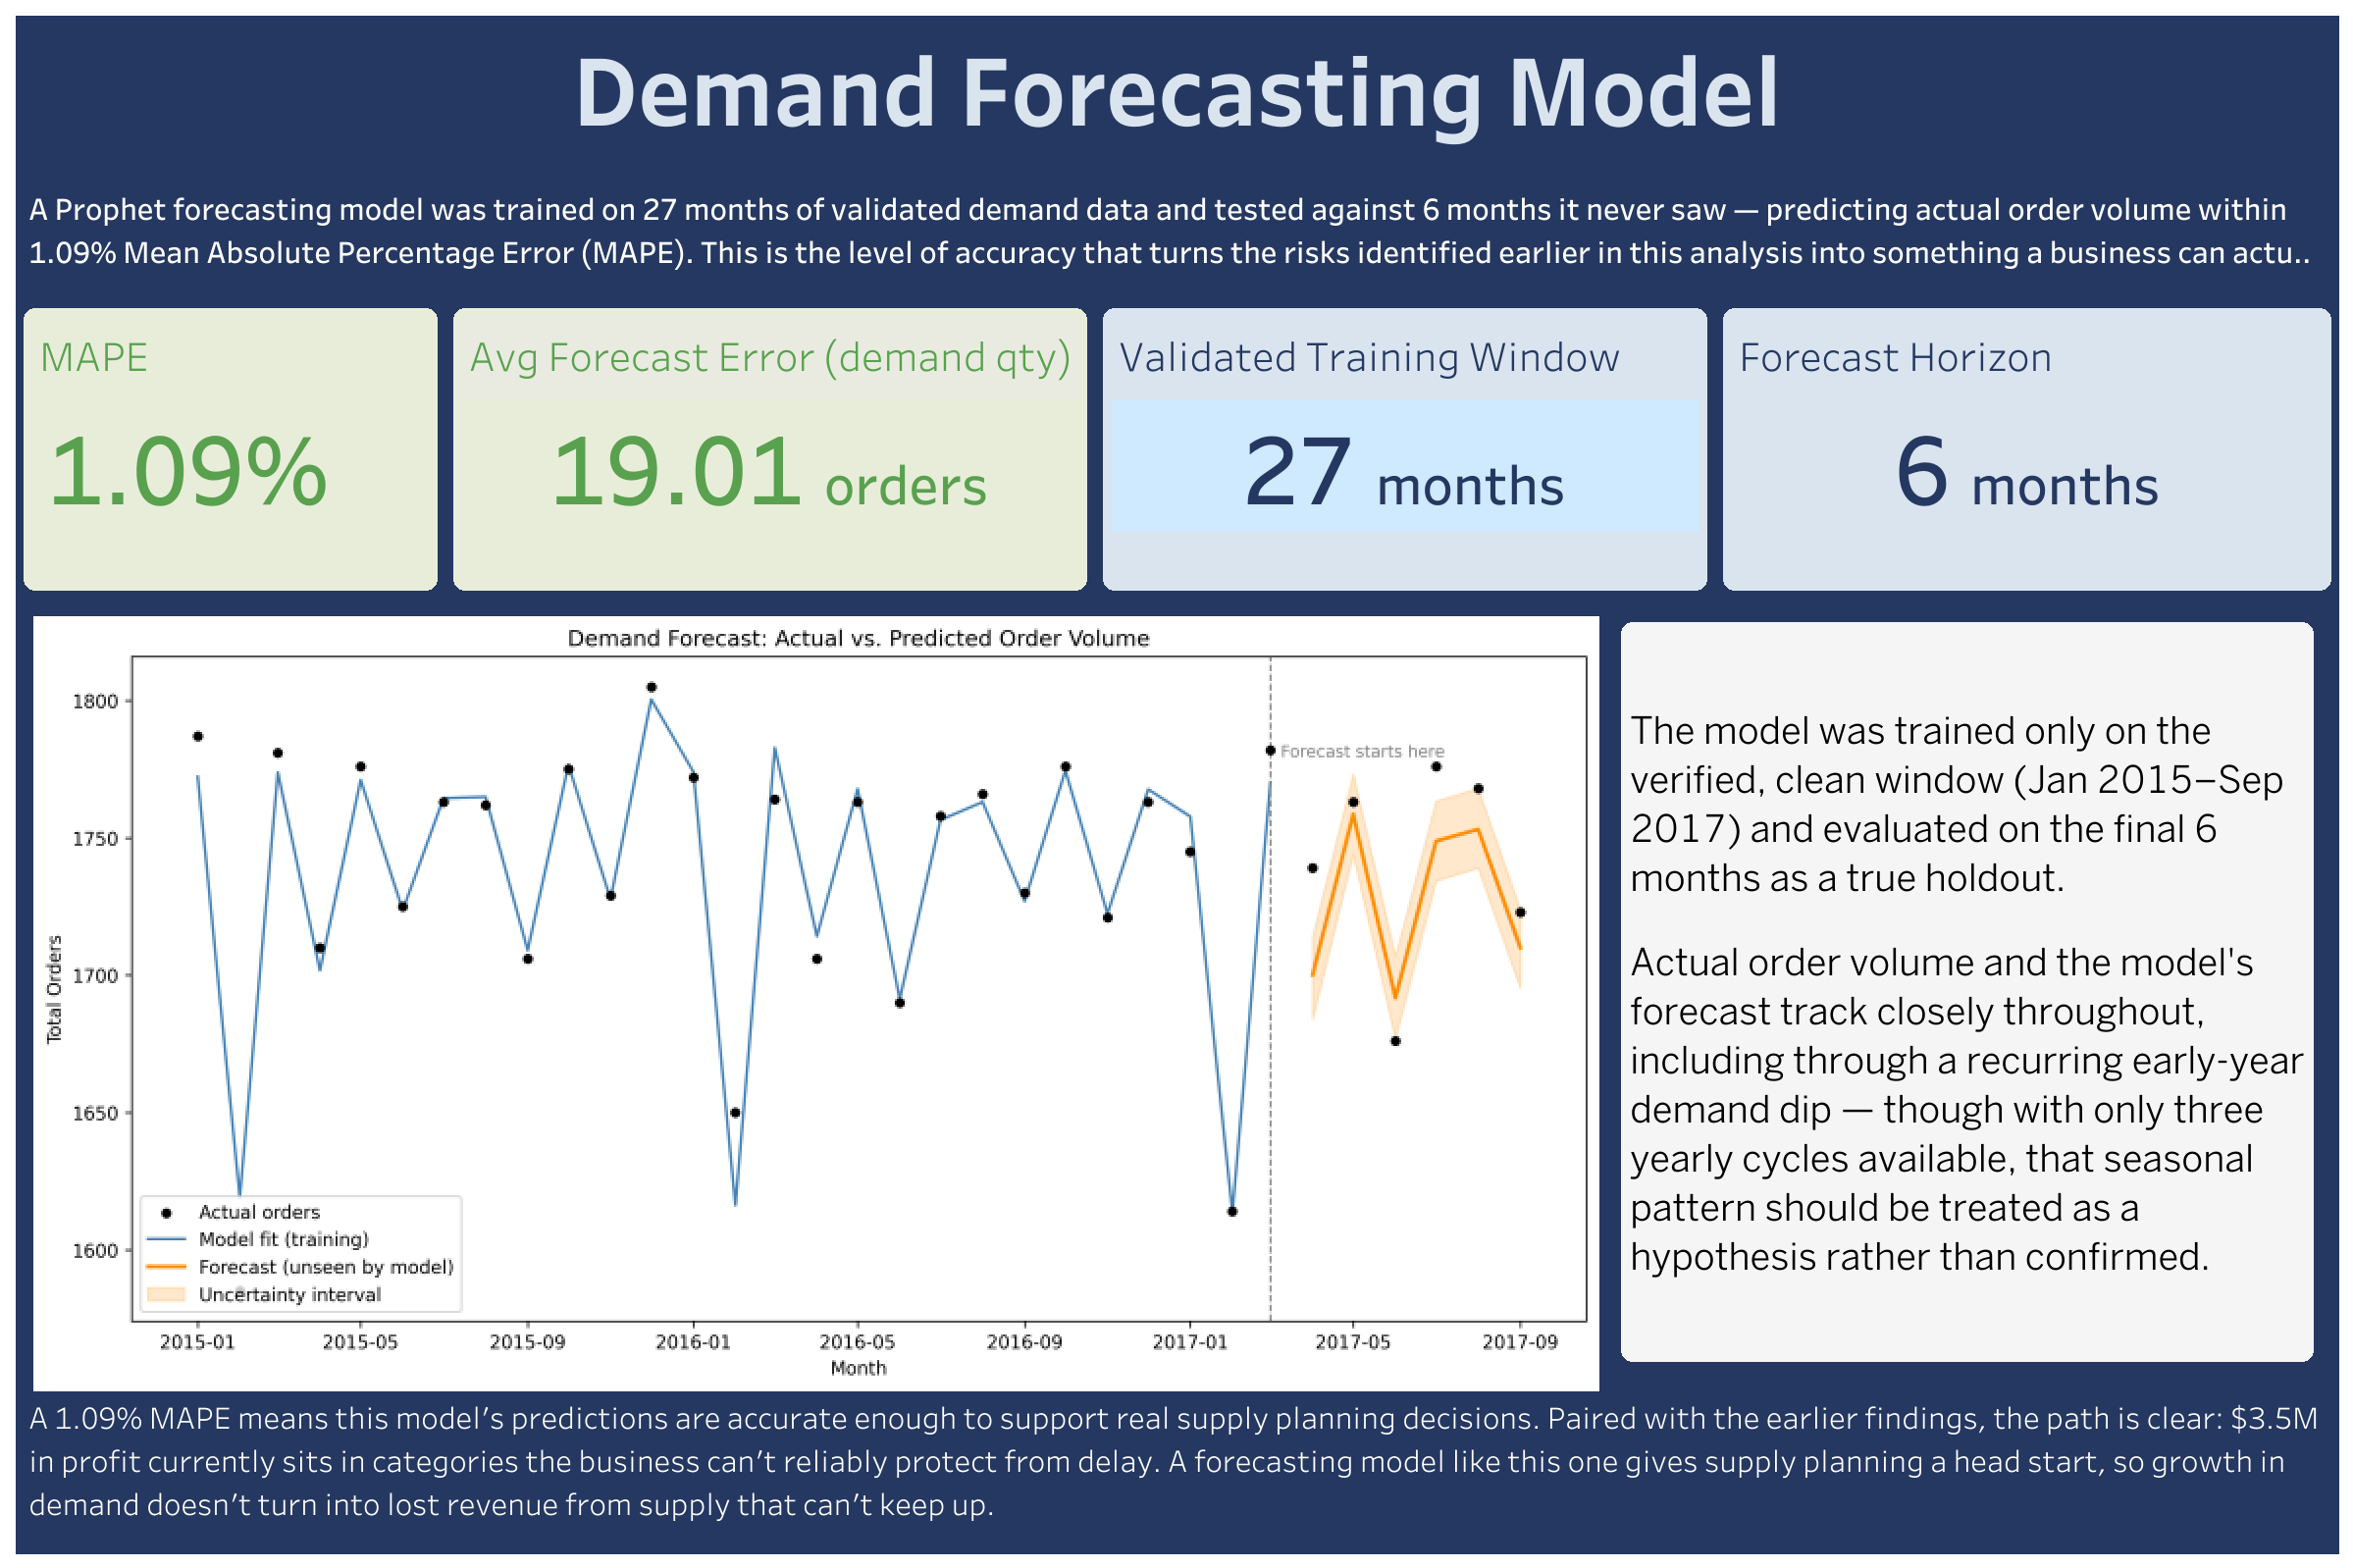

Layout of this report page (visuals, bound fields, positions):
{"tool":"tableau","page":{"name":"Dashboard 4 - Demand Forecasting","canvas":[1200,800],"ordinal":3},"visuals":[{"type":"text","box":[8,8,1184,71.6]},{"type":"text","box":[8,79.6,1184,73.4]},{"type":"worksheet","title":"KPI_MAPE","mark":"Text","box":[12,157,211,117]},{"type":"worksheet","title":"KPI_Avg_Forecast_Error","mark":"Automatic","box":[231,157,323,117]},{"type":"worksheet","title":"KPI_Training_Window","mark":"Automatic","box":[562,157,308,117]},{"type":"worksheet","title":"KPI_Forecast_Horizon","mark":"Automatic","box":[878,157,310,117]},{"type":"image","param":"Image/forecast_chart.png","box":[13,310,1174,403]},{"type":"text","box":[824,315,357,381]},{"type":"text","box":[12,699,1175,90]}]}

Visuals, with their boxes in screenshot pixels (x1, y1, x2, y2), scaled from the page's 1200x800 canvas onto the 2353x1568 screenshot:
text: (16, 16, 2337, 156)
text: (16, 156, 2337, 300)
"KPI_MAPE" worksheet (Text marks): (24, 308, 438, 537)
"KPI_Avg_Forecast_Error" worksheet: (453, 308, 1086, 537)
"KPI_Training_Window" worksheet: (1102, 308, 1706, 537)
"KPI_Forecast_Horizon" worksheet: (1722, 308, 2329, 537)
image: (26, 607, 2327, 1397)
text: (1616, 617, 2316, 1364)
text: (24, 1370, 2327, 1546)
